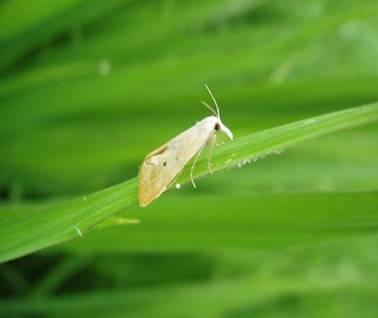Crambidae: (136, 83, 238, 211)
